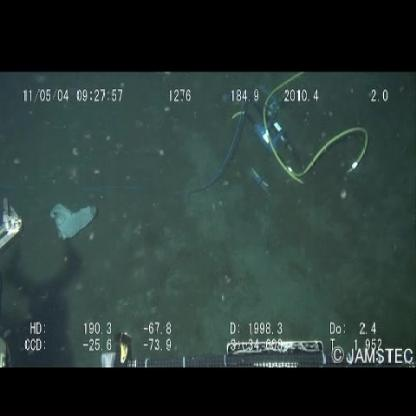Rác: (223, 76, 372, 200), (95, 328, 416, 368), (47, 200, 98, 244)
